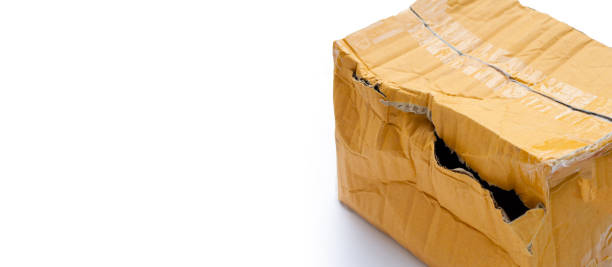damaged package: (344, 63, 574, 234)
